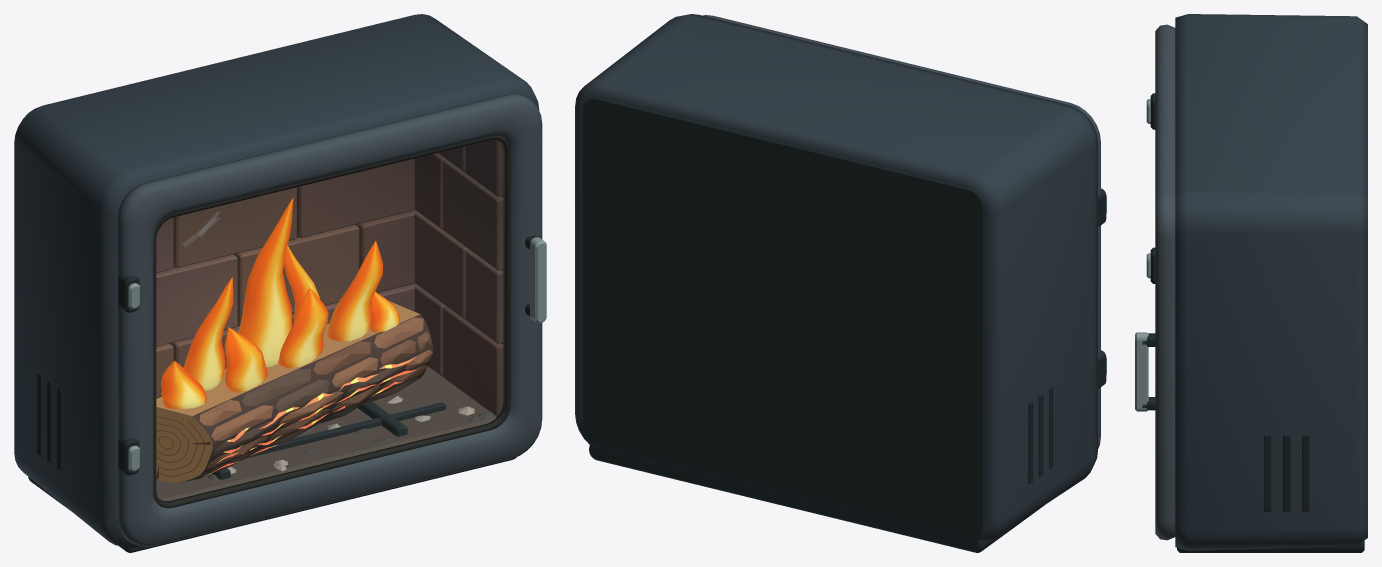
Rendered from holzofen.glb.
3 renders of one model, left to right at view 1: azimuth 30°, elevation 25°; view 2: azimuth 150°, elevation 25°; view 3: azimuth 270°, elevation 25°, orthographic. The views are drawn at different scales.
Parts seen in each view (by area): view 1: Stove casting and hardware, Staggered firebrick lining, Split oak with raised bark and growth rings, Dancing flame tongues, Incandescent seams under the bark; view 2: Stove casting and hardware; view 3: Stove casting and hardware.
Part boxes in pixels (box(x1,y1,x2,y2)): Stove casting and hardware: box(14, 14, 546, 552); Staggered firebrick lining: box(156, 139, 503, 416); Split oak with raised bark and growth rings: box(156, 301, 433, 483); Dancing flame tongues: box(161, 198, 400, 409); Incandescent seams under the bark: box(208, 357, 416, 474); Stove casting and hardware: box(575, 14, 1106, 552); Stove casting and hardware: box(1135, 14, 1367, 552).
Size of the model in its own units: 3 by 2.5 by 1.46.
23 materials, 1 textured.
